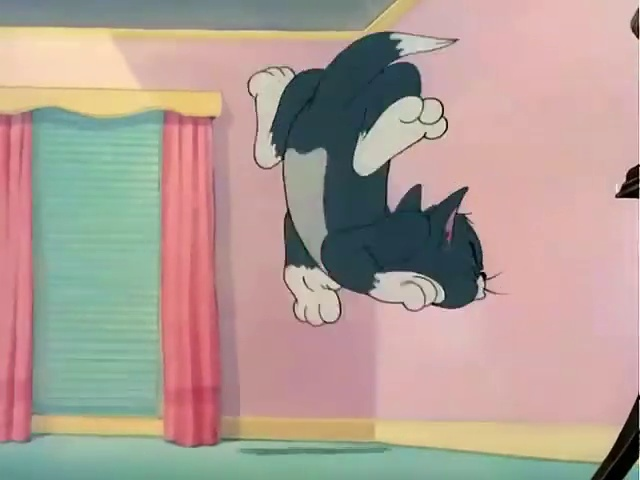tom: (222, 16, 509, 351)
